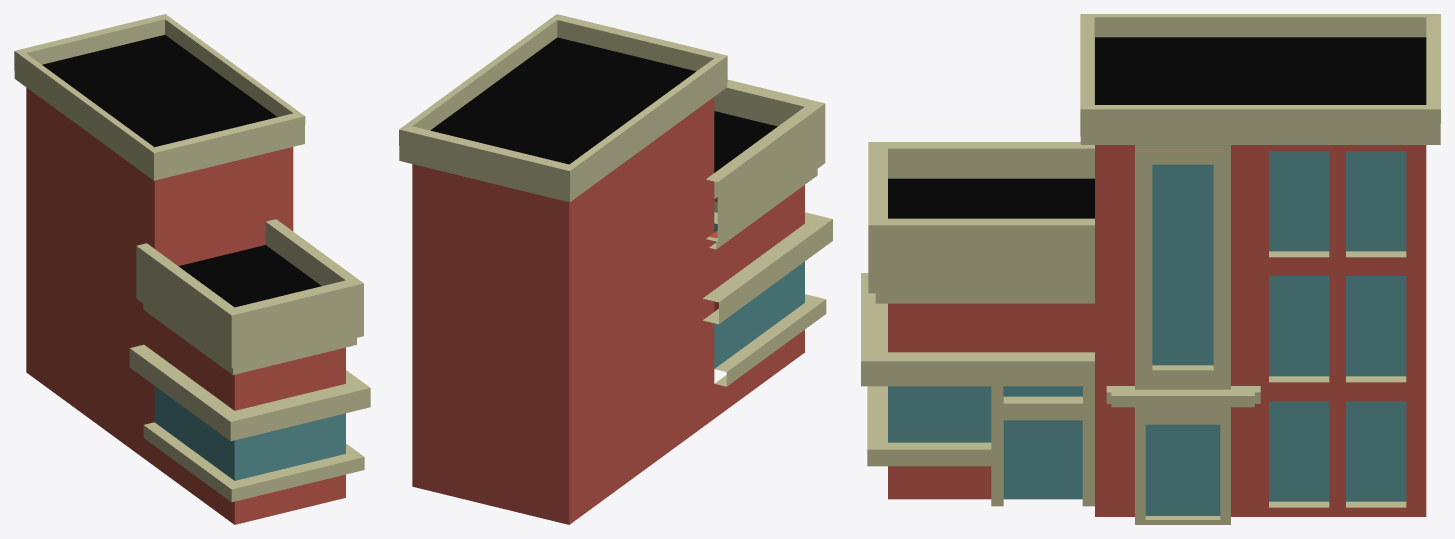
Rendered from NewSchool5.fbx.
3 renders of one model, left to right at view 1: azimuth 30°, elevation 25°; view 2: azimuth 150°, elevation 25°; view 3: azimuth 270°, elevation 25°, orthographic. The views are drawn at different scales.
Visible parts, largest first — view 1: School; view 2: School; view 3: School.
Boxes of the visible parts, x1,y1,x2,y2 form: School: [14, 14, 370, 524]; School: [399, 14, 832, 524]; School: [861, 14, 1440, 524].
Bounding box in the file's own units: 6.08 × 10.97 × 14.
